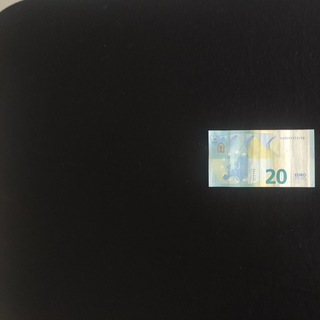20EUROBack: (208, 129, 315, 187)
